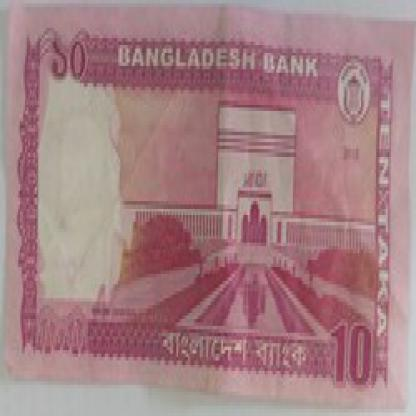Ten Taka: (42, 24, 103, 101), (328, 309, 376, 398)
